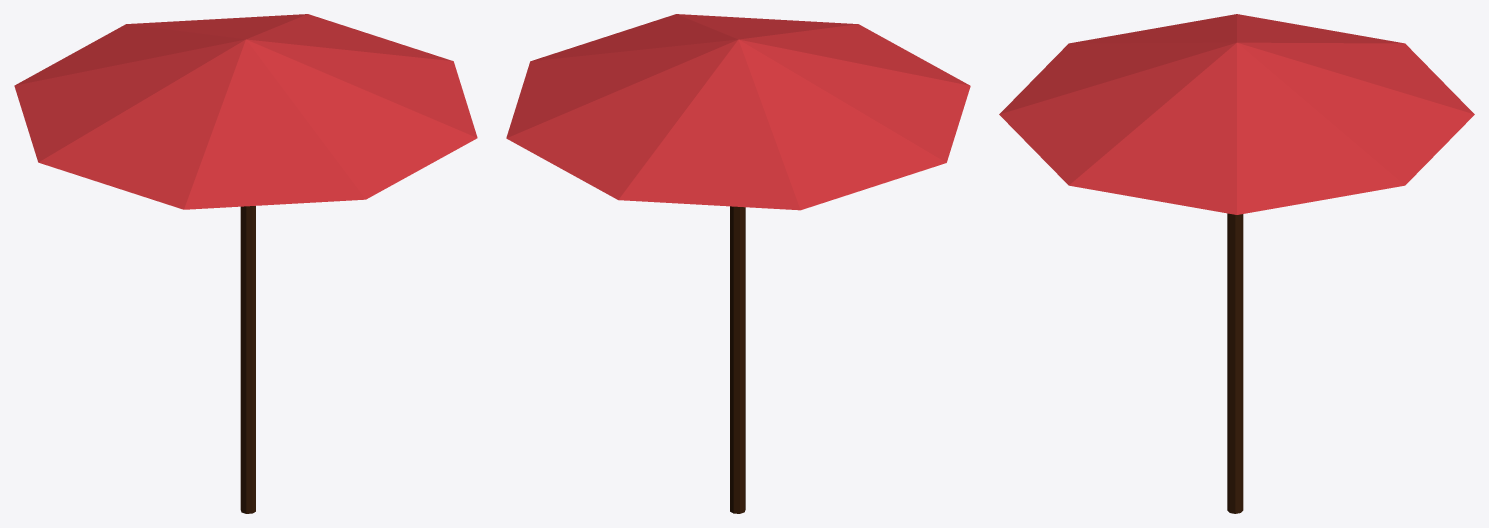
File: ParkTableUmbrella.fbx
3 views of the same model, side by side, from view 1: azimuth 30°, elevation 25°; view 2: azimuth 150°, elevation 25°; view 3: azimuth 270°, elevation 25° (orthographic).
Visible parts, largest first — view 1: Cone, Cylinder; view 2: Cone, Cylinder; view 3: Cone, Cylinder.
Boxes of the visible parts, x1,y1,x2,y2 form: Cone: [14, 14, 477, 209]; Cylinder: [240, 206, 255, 513]; Cone: [506, 14, 970, 210]; Cylinder: [730, 206, 745, 513]; Cone: [999, 14, 1474, 214]; Cylinder: [1227, 213, 1243, 513].
Size of the model in its own units: 300 by 325 by 300.
